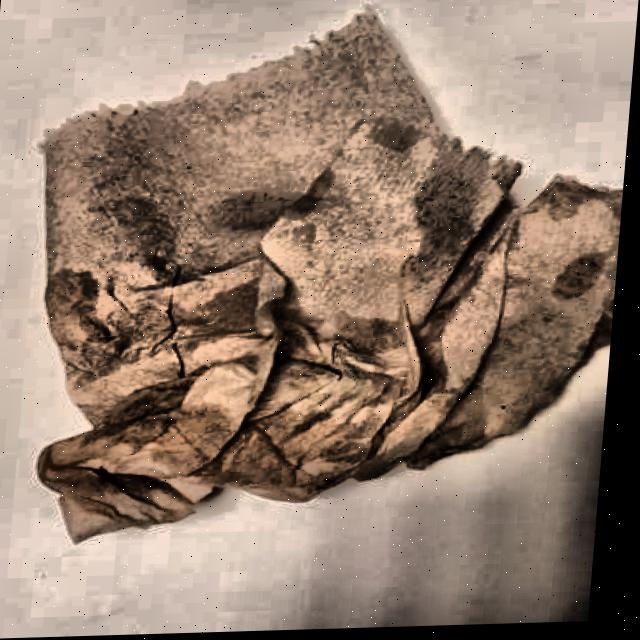paper: (1, 0, 639, 547)
